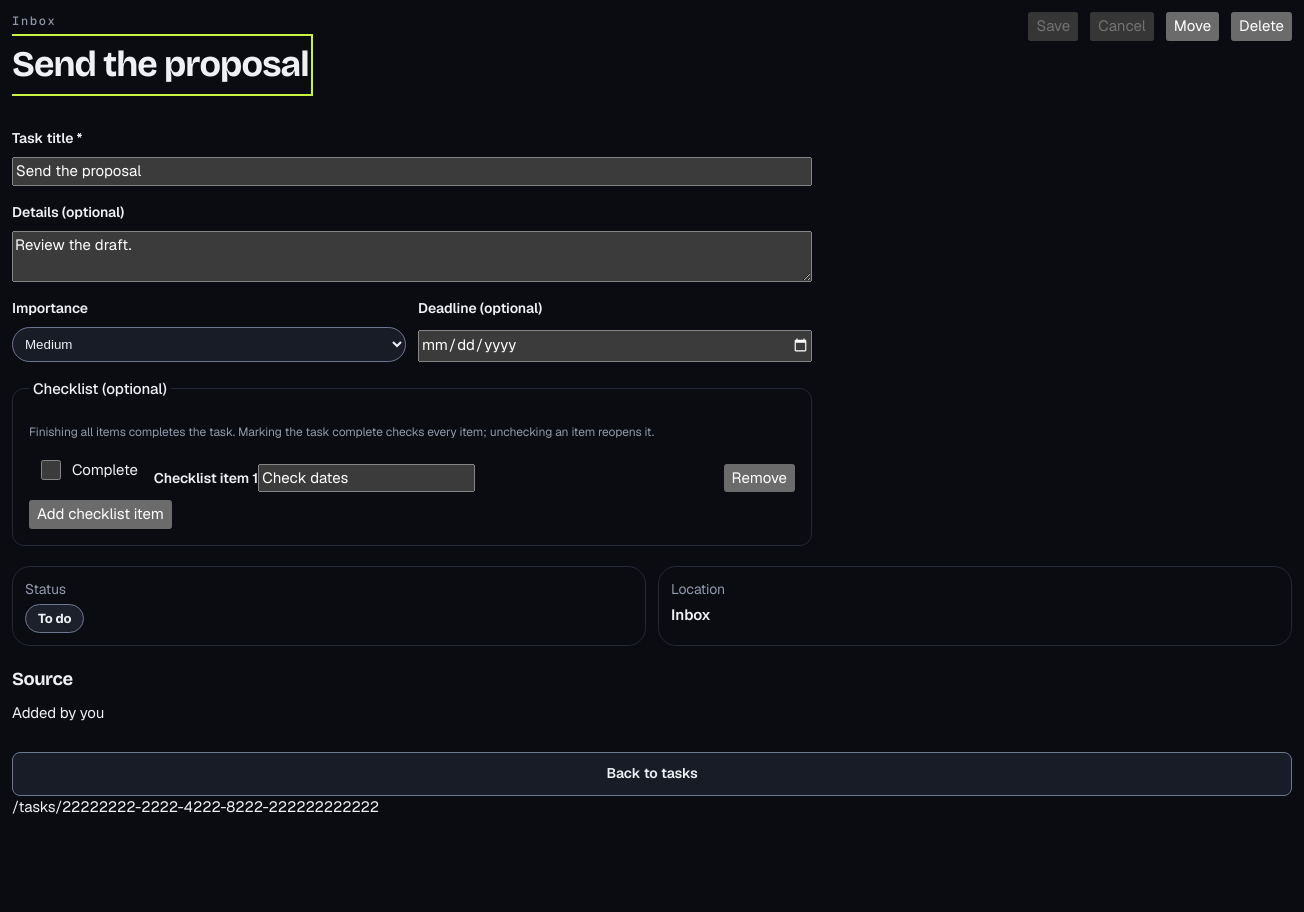
Test case: TaskDetailPage › loads an immediately editable task with a normalized no-op Save and shows Inbox location
The width and height of the screenshot is (1304, 912).
Expected: the heading "Send the proposal" is shown, [12,38,309,92]
Expected: the text "Inbox" below "Location" is shown, [671,604,711,624]
Step 1. Clear the field labelled "Task title *" → (412, 171), box [12,157,812,186]
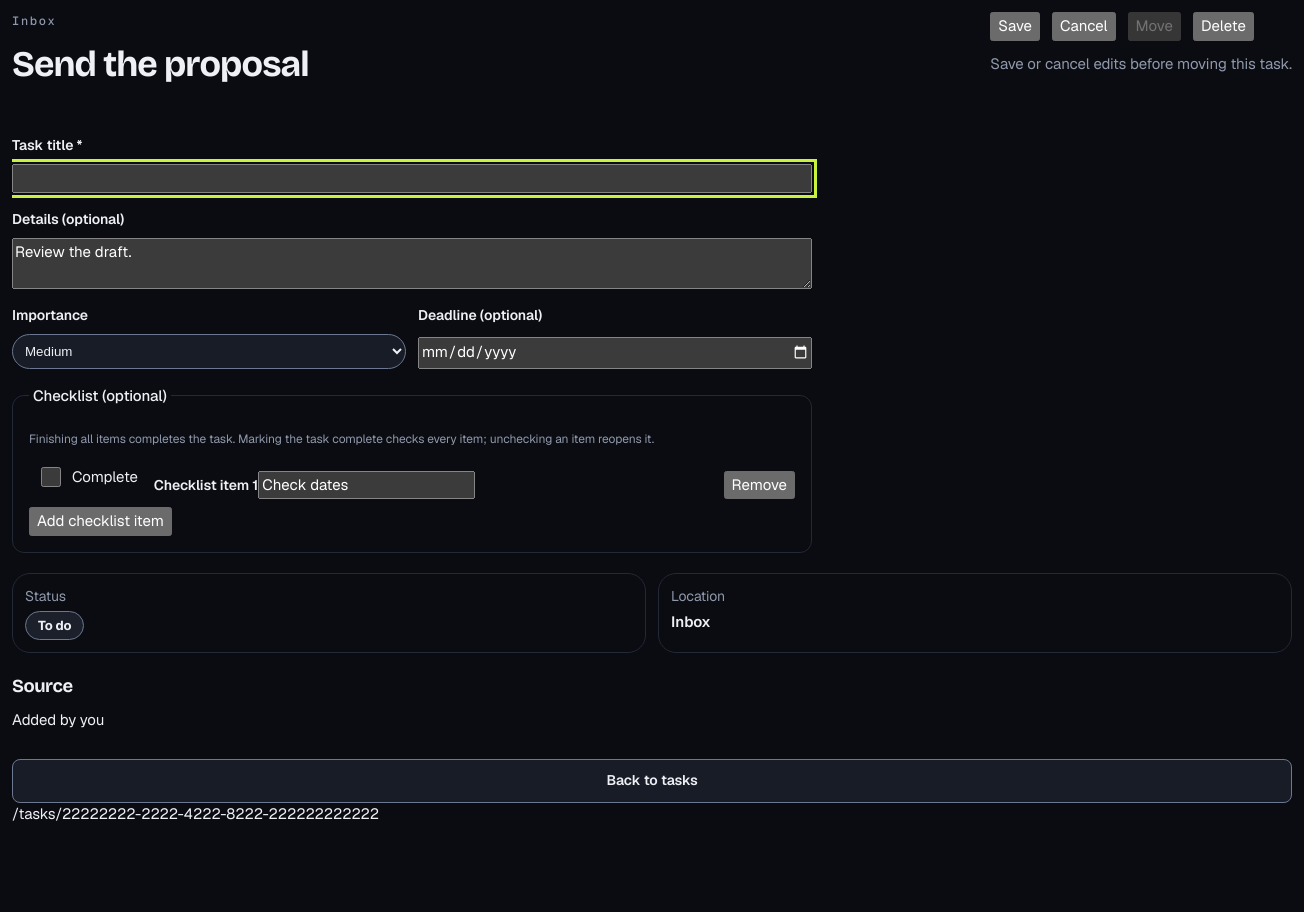
Step 2. Type "  Send the proposal  " into the field labelled "Task title *" → (412, 178), box [12,164,812,192]
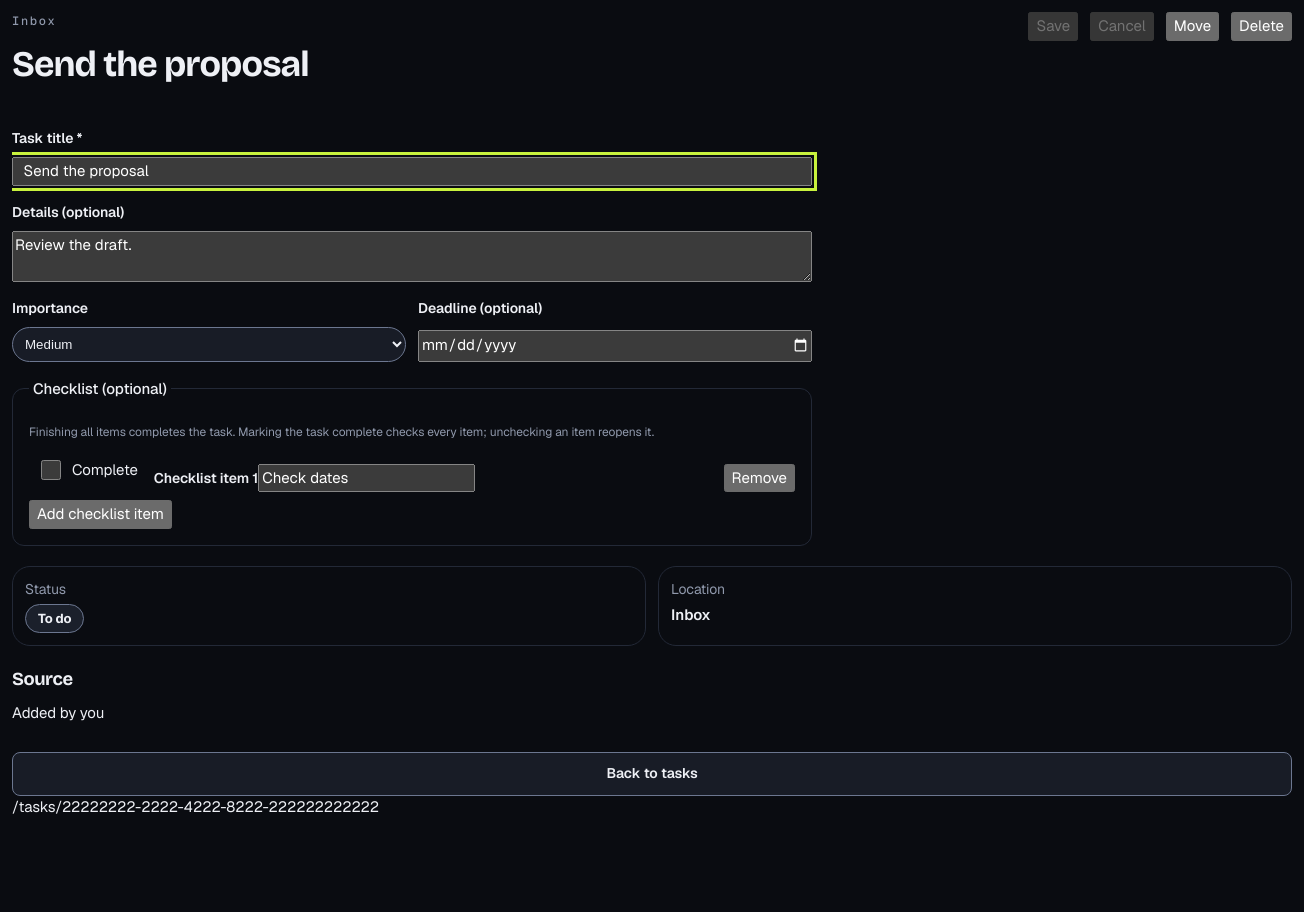
Expected: the button with test id "task-detail-save" is disabled, [1028,12,1078,40]
